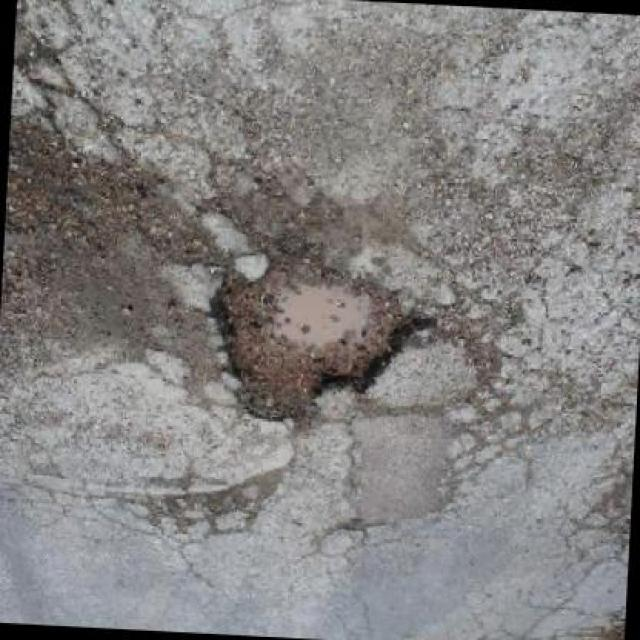pothole: (196, 239, 436, 444)
